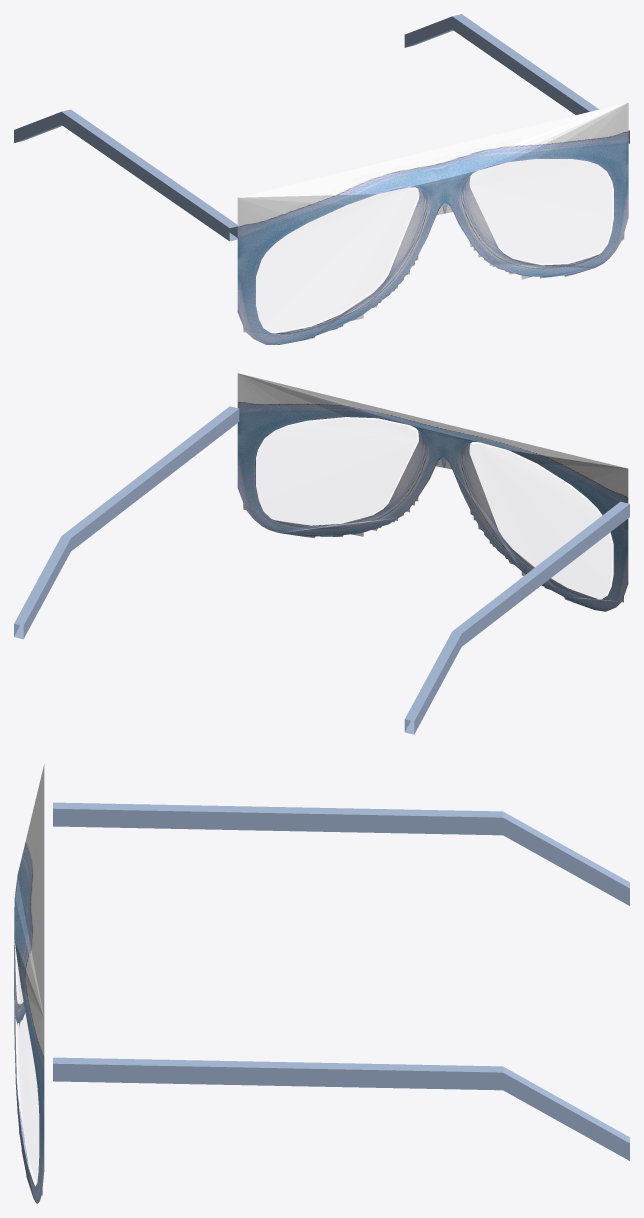
File: gothamstyle-236_matte-blue.glb
The picture shows the model from 3 angles, top to bottom: view 1: azimuth 30°, elevation 25°; view 2: azimuth 150°, elevation 25°; view 3: azimuth 270°, elevation 25°; orthographic projection. The views are drawn at different scales.
Parts seen in each view (by area): view 1: frame_front, temple_viewer_left, temple_viewer_right; view 2: frame_front, temple_viewer_right, temple_viewer_left; view 3: temple_viewer_left, temple_viewer_right, frame_front.
Part boxes in pixels (x1,y1,x2,y2): frame_front: [237, 102, 628, 344]; temple_viewer_left: [14, 109, 237, 241]; temple_viewer_right: [404, 14, 629, 143]; frame_front: [237, 373, 628, 611]; temple_viewer_right: [14, 406, 239, 639]; temple_viewer_left: [404, 501, 629, 734]; temple_viewer_left: [53, 802, 629, 905]; temple_viewer_right: [53, 1057, 629, 1160]; frame_front: [14, 764, 44, 1203].
Size of the model in its own units: 0.1264 by 0.0463 by 0.126.
Materials: 3 (2 with a texture image).
